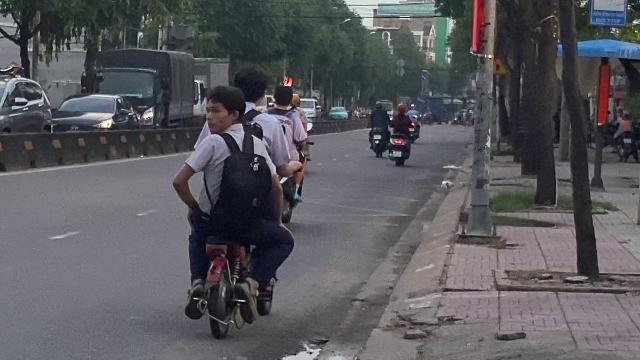motorcyclist: (170, 65, 310, 347)
nohelmet: (203, 84, 247, 132), (230, 68, 268, 106)
